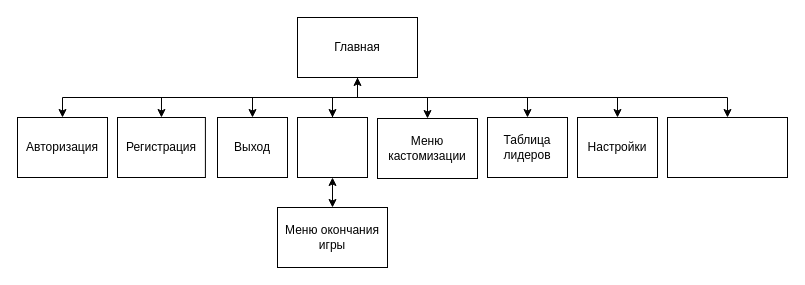
Some shapes in this 805 by 285 pixel diagram are drawn without their labels. The box of each missing label's shape, as (x1, y1, x2, y2) in pixels:
Администрирование: (666, 116, 788, 178)
Игра: (296, 116, 368, 178)
